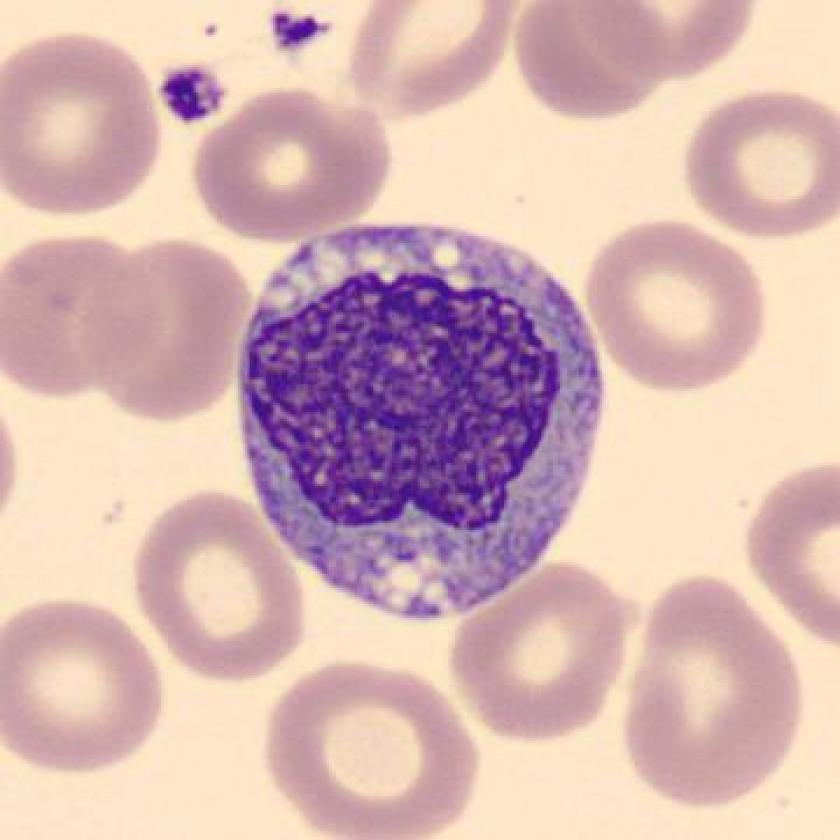monocyte: (223, 200, 619, 633)
